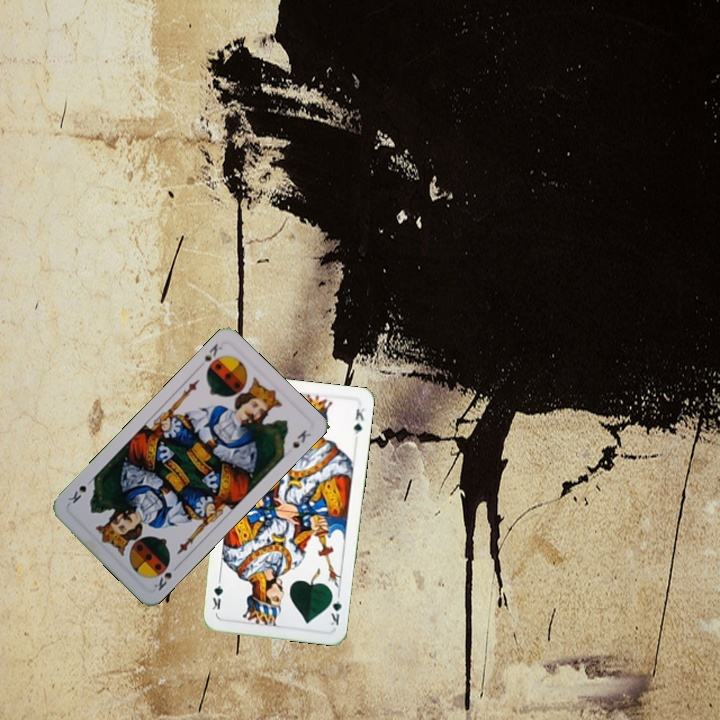GK: (325, 588, 344, 628)
SK: (150, 560, 182, 593), (195, 339, 225, 372)
